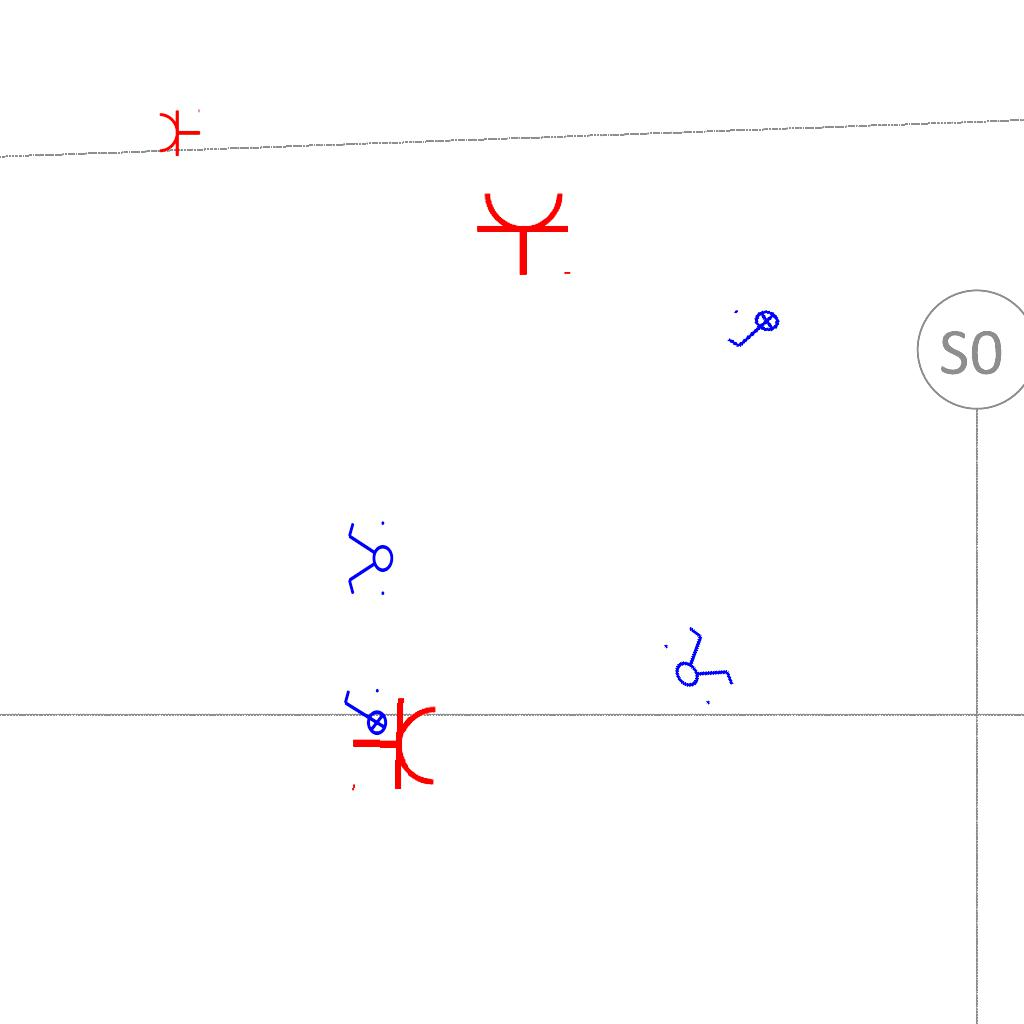Ausschalter_beleuchtet: (721, 300, 789, 362), (340, 686, 388, 742)
Schukosteckdose_einfach: (349, 694, 440, 798), (475, 190, 575, 277), (158, 107, 201, 157)
Serienschalter: (652, 618, 742, 714), (346, 517, 394, 601)
